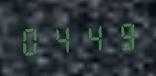four: (78, 19, 107, 54), (48, 21, 77, 55)
nine: (108, 18, 137, 52)
zero: (18, 23, 47, 57)
